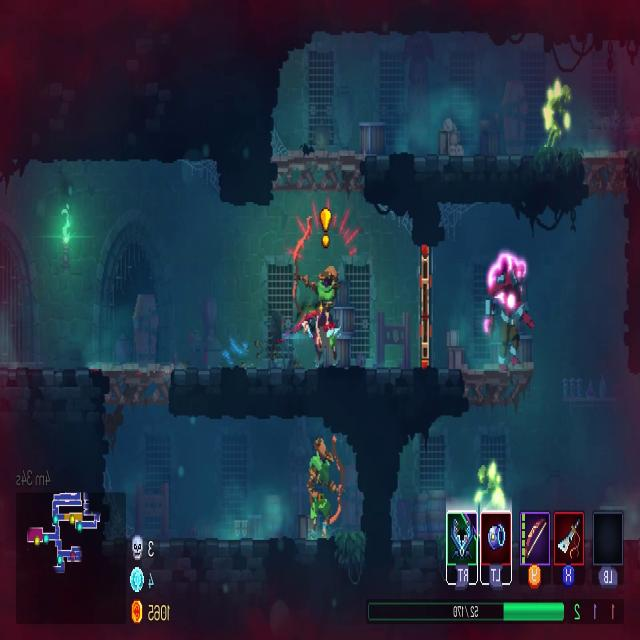agents: (299, 305, 335, 372)
enemy_archer: (307, 438, 345, 540)
enemy_green_puncher: (542, 79, 572, 148), (474, 460, 510, 517)
enemy_purple_big: (482, 252, 530, 361)
wood_floor: (272, 143, 364, 196), (97, 361, 172, 410), (460, 362, 532, 406), (579, 146, 626, 196)
